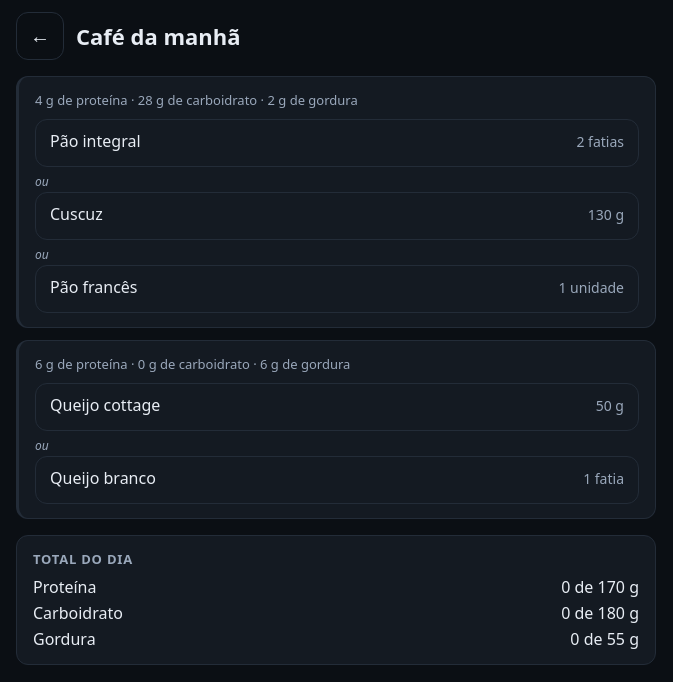
Scenario: TelaRefeicao › macros do dia › somam conforme o aluno marca, contra o alvo do plano
This screenshot has width=673, height=682.
Expected: the text "0 de 170 g" is shown, x1=561 y1=576 x2=639 y2=598
Click the button "Pão integral 2 fatias" at (95, 141), box x1=35 y1=119 x2=639 y2=167
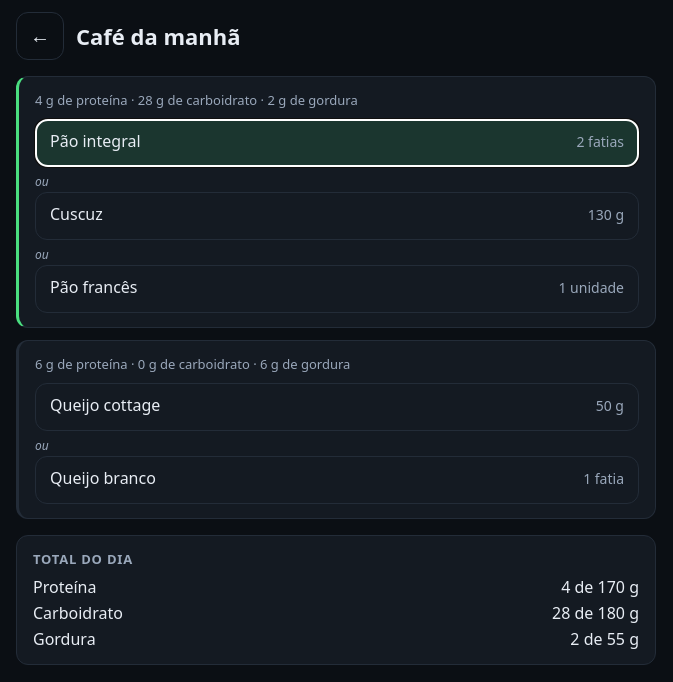
Expected: the text "4 de 170 g" is shown, x1=561 y1=576 x2=639 y2=598
Click the button "Queijo cottage 50 g" at (105, 405), box x1=35 y1=383 x2=639 y2=431
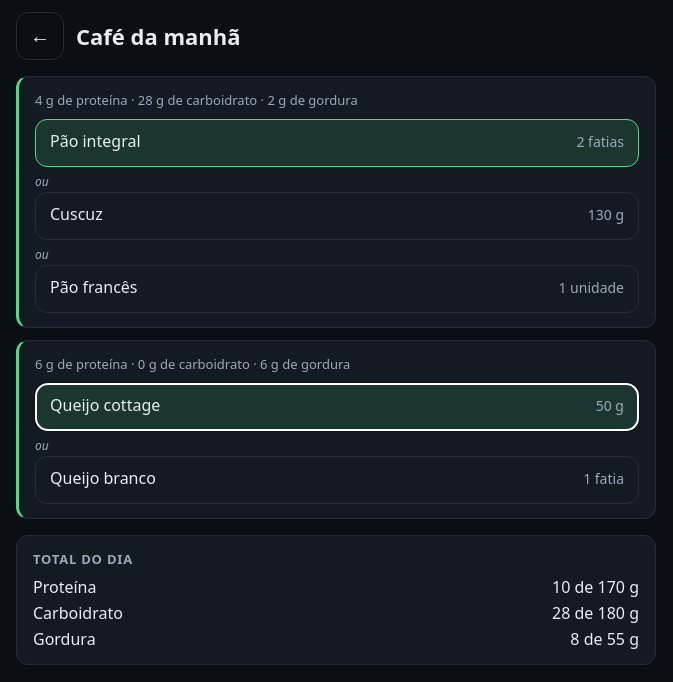
Expected: the text "10 de 170 g" is shown, x1=552 y1=576 x2=639 y2=598
